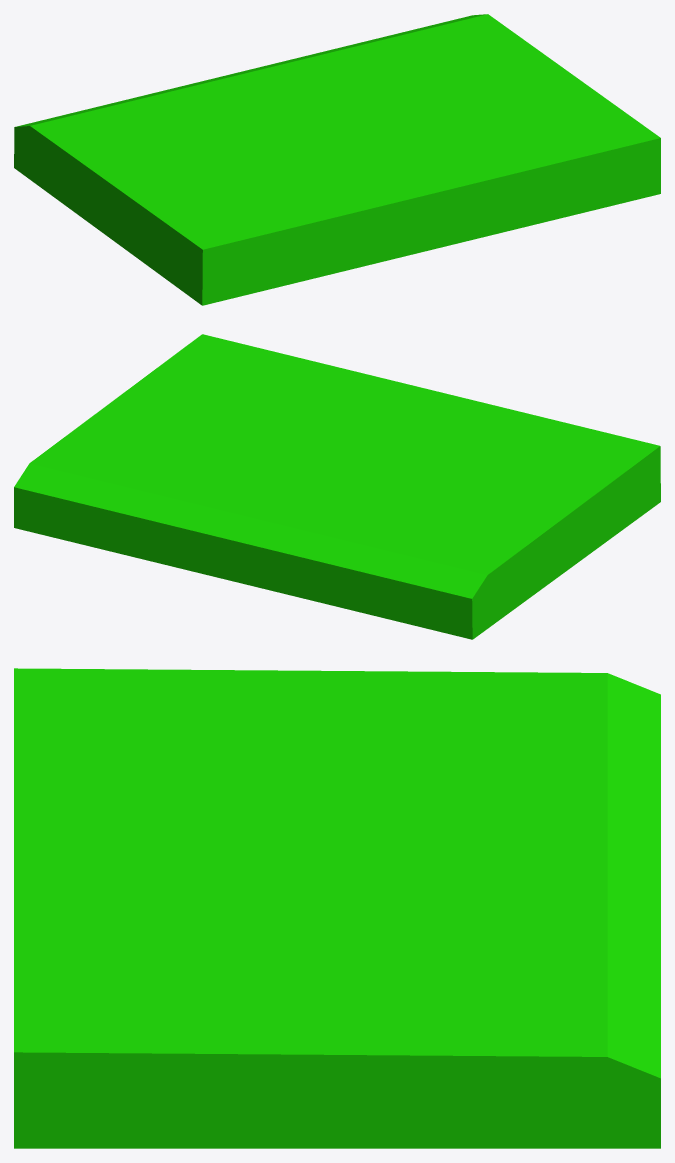
File: SM_MicStove_01_Door_01_Collider.fbx
3 renders of one model, top to bottom at view 1: azimuth 30°, elevation 25°; view 2: azimuth 150°, elevation 25°; view 3: azimuth 270°, elevation 25°, orthographic. The views are drawn at different scales.
Visible parts, largest first — view 1: SM_MicStove_01_Door_01_Collider; view 2: SM_MicStove_01_Door_01_Collider; view 3: SM_MicStove_01_Door_01_Collider.
Boxes of the visible parts, x1,y1,x2,y2 form: SM_MicStove_01_Door_01_Collider: (14, 14, 660, 305); SM_MicStove_01_Door_01_Collider: (14, 334, 660, 639); SM_MicStove_01_Door_01_Collider: (14, 668, 660, 1148).
Bounding box in the file's own units: 54.56 × 6.36 × 38.81.
